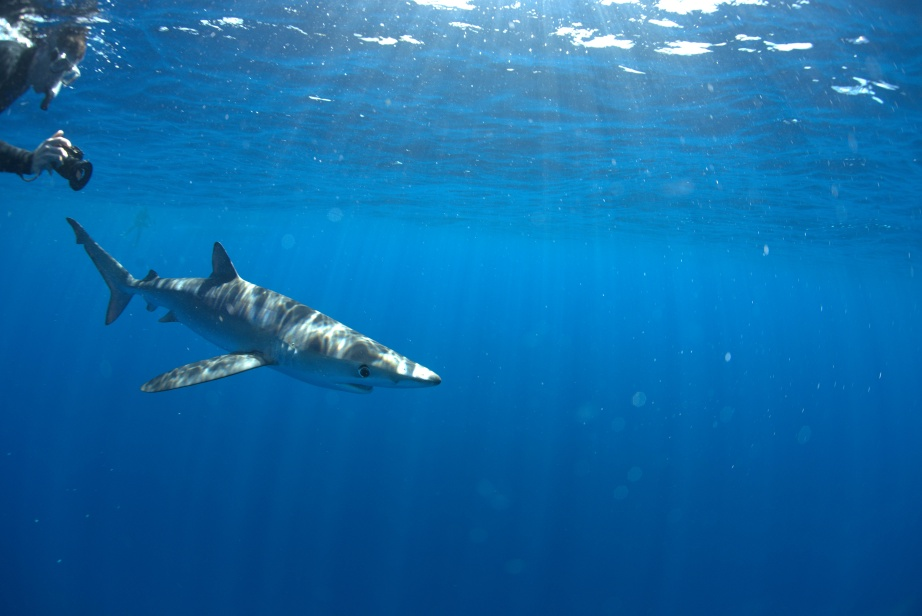Azul: (56, 198, 460, 436)
